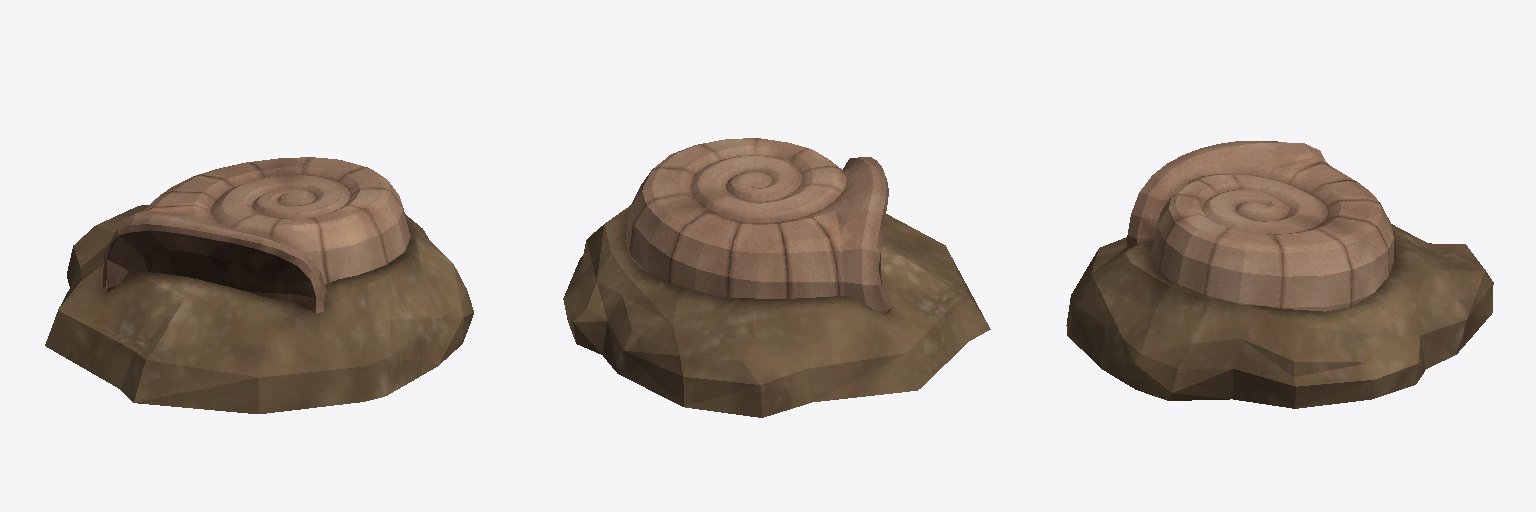
3 views of the same model, side by side, from view 1: azimuth 30°, elevation 25°; view 2: azimuth 150°, elevation 25°; view 3: azimuth 270°, elevation 25° (orthographic).
Parts seen in each view (by area): view 1: fossil01_model_02, fossil01_model_01; view 2: fossil01_model_02, fossil01_model_01; view 3: fossil01_model_02, fossil01_model_01.
Part boxes in pixels (x1,y1,x2,y2): fossil01_model_02: (45, 205, 473, 413); fossil01_model_01: (103, 157, 410, 312); fossil01_model_02: (563, 205, 990, 417); fossil01_model_01: (626, 138, 891, 313); fossil01_model_02: (1066, 224, 1493, 408); fossil01_model_01: (1127, 141, 1393, 311).
Size of the model in its own units: 0.9544 by 0.3554 by 0.9767.
Materials: 1 (1 with a texture image).